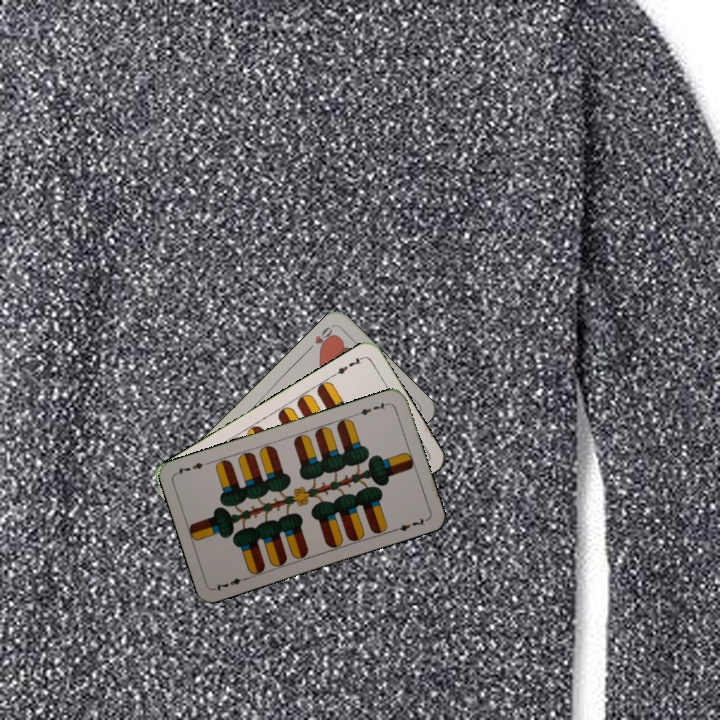E7: (330, 352, 366, 378), (352, 398, 392, 418), (211, 573, 250, 593)
HO: (303, 322, 337, 354)
